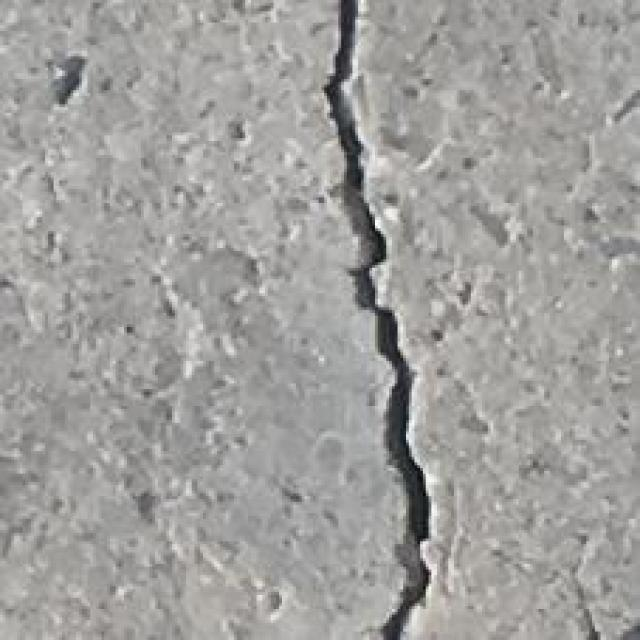Crack: (310, 0, 457, 640)
